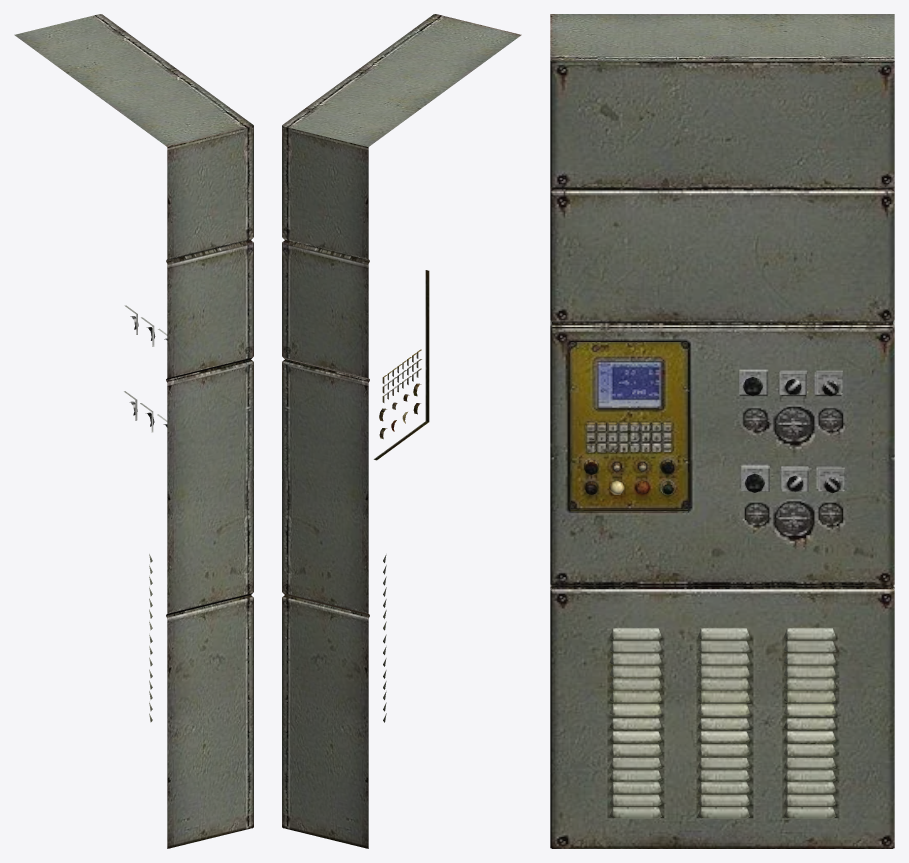
Rendered from wall_console2.glb.
3 views of the same model, side by side, from view 1: azimuth 30°, elevation 25°; view 2: azimuth 150°, elevation 25°; view 3: azimuth 270°, elevation 25° (orthographic). The views are drawn at different scales.
Visible parts, largest first — view 1: 1_wall_console2, 0_wall_console1; view 2: 1_wall_console2, 0_wall_console1; view 3: 0_wall_console1, 1_wall_console2.
Boxes of the visible parts, <box> form: 1_wall_console2: <box>14,14,253,848</box>; 0_wall_console1: <box>124,125,253,827</box>; 1_wall_console2: <box>282,14,521,848</box>; 0_wall_console1: <box>282,125,429,827</box>; 0_wall_console1: <box>550,61,894,848</box>; 1_wall_console2: <box>550,14,894,589</box>.
Bounding box in the file's own units: 0.3354 × 2.43 × 0.9635.
Materials: 2 (2 with a texture image).
